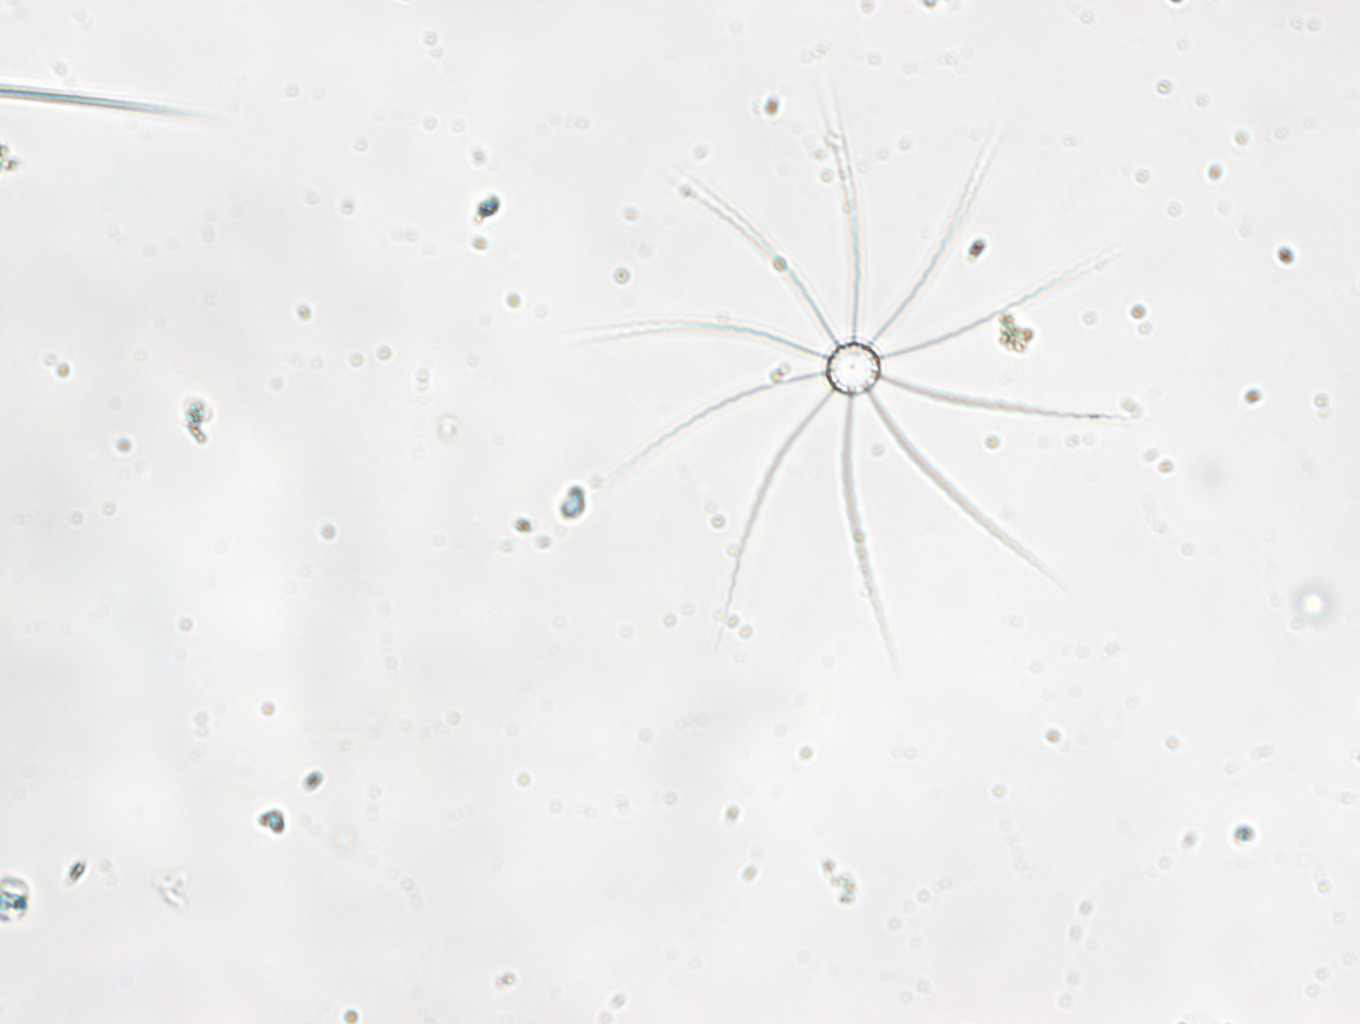bacteriastrum: (571, 80, 1148, 658)
